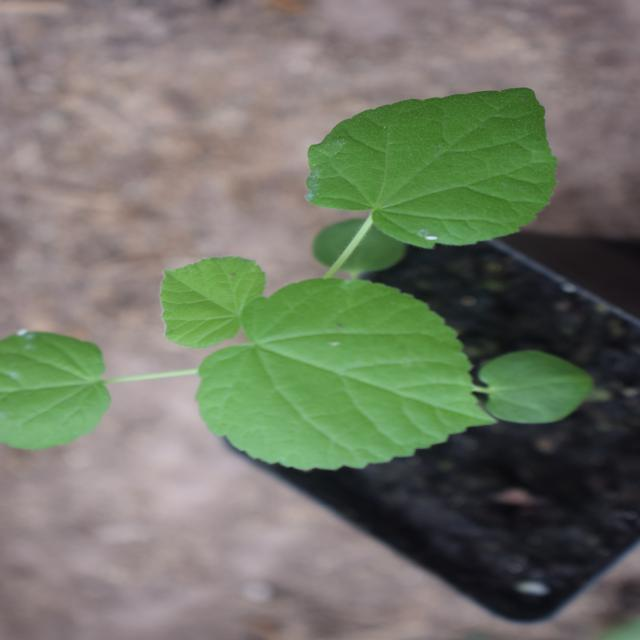abutilon theophrasti: (183, 0, 523, 558)
